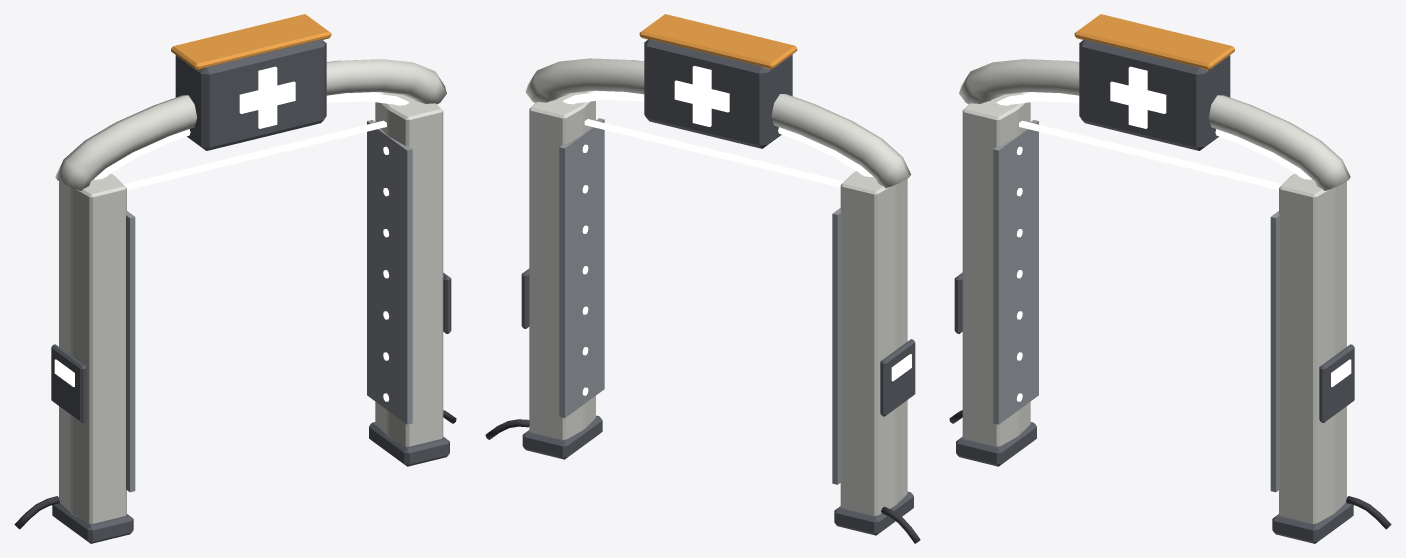
Rendered from arch_medical.glb.
3 renders of one model, left to right at view 1: azimuth 30°, elevation 25°; view 2: azimuth 150°, elevation 25°; view 3: azimuth 330°, elevation 25°, orthographic.
Visible parts, largest first — view 1: arch_medical, scanbar; view 2: arch_medical, scanbar; view 3: arch_medical, scanbar.
Boxes of the visible parts, x1,y1,x2,y2 form: arch_medical: (14,14,456,543); scanbar: (123,120,386,190); arch_medical: (485,14,920,543); scanbar: (584,119,844,187); arch_medical: (949,14,1391,543); scanbar: (1019,120,1282,190).
Bounding box in the file's own units: 4.04 × 3.93 × 0.64.
